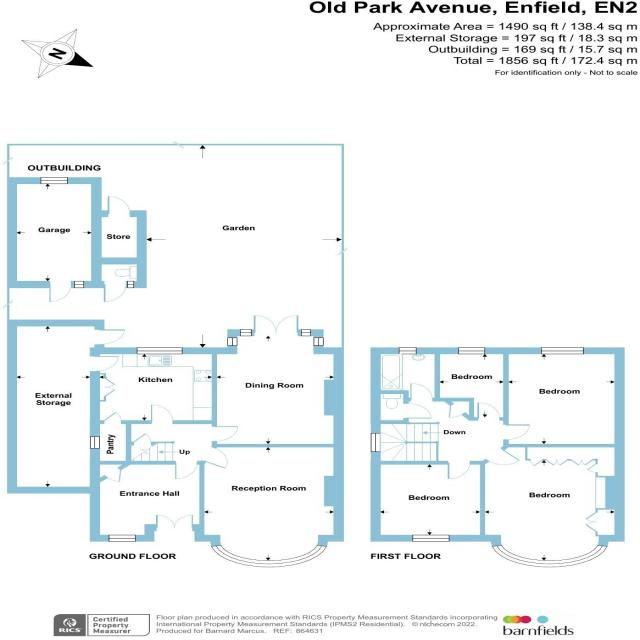DOOR: (483, 445, 523, 467), (200, 445, 230, 470), (93, 328, 126, 347), (88, 355, 121, 373), (149, 403, 175, 425), (402, 402, 433, 420), (210, 425, 240, 443), (174, 459, 199, 480), (446, 460, 472, 480), (501, 424, 531, 441), (477, 401, 502, 421), (410, 382, 434, 402), (102, 466, 123, 483), (102, 410, 124, 425)
ROOM: (193, 443, 345, 569), (478, 444, 626, 569), (210, 315, 345, 448), (503, 347, 625, 448), (89, 347, 217, 425), (369, 461, 486, 542), (434, 347, 509, 421)
WINDOW: (489, 544, 610, 568), (210, 544, 329, 568), (540, 346, 585, 355), (135, 347, 184, 355), (412, 534, 450, 543), (108, 534, 137, 542), (457, 347, 486, 355), (88, 436, 101, 450), (398, 347, 417, 355), (313, 337, 324, 346), (227, 338, 238, 346), (240, 329, 252, 336), (300, 329, 311, 336)
